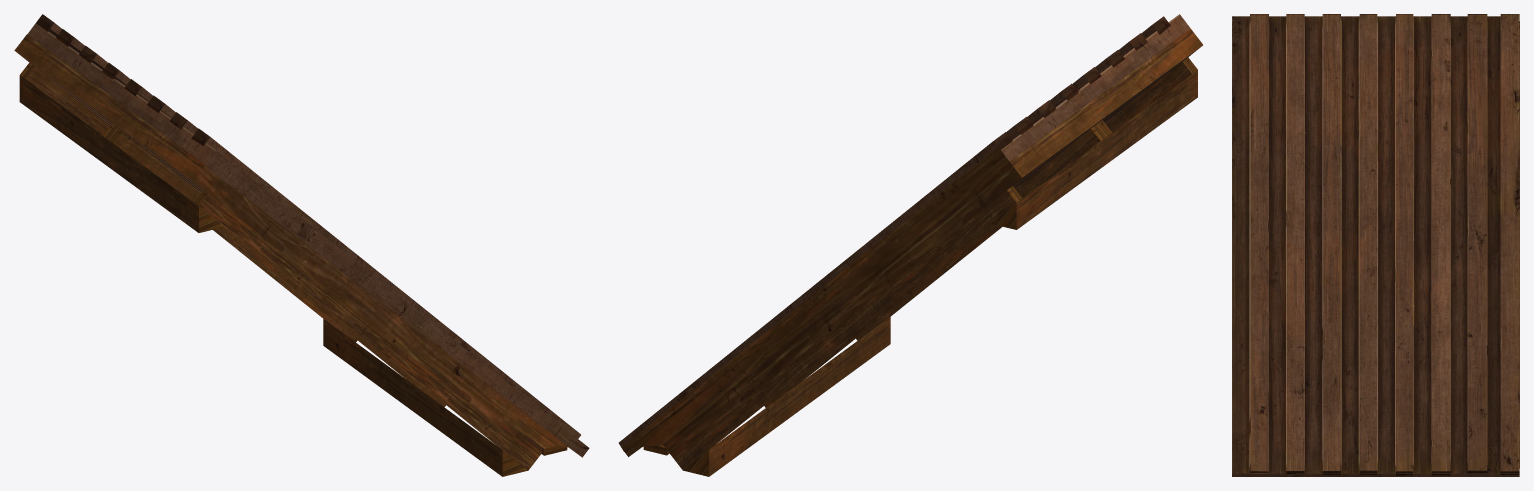
3 views of the same model, side by side, from view 1: azimuth 30°, elevation 25°; view 2: azimuth 150°, elevation 25°; view 3: azimuth 270°, elevation 25° (orthographic). The views are drawn at different scales.
Parts seen in each view (by area): view 1: SM_BB_T2_Roof_Large_LOD0; view 2: SM_BB_T2_Roof_Large_LOD0; view 3: SM_BB_T2_Roof_Large_LOD0.
Part boxes in pixels (x1=…): SM_BB_T2_Roof_Large_LOD0: x1=14, y1=14, x2=589, y2=476; SM_BB_T2_Roof_Large_LOD0: x1=618, y1=14, x2=1202, y2=476; SM_BB_T2_Roof_Large_LOD0: x1=1232, y1=14, x2=1519, y2=476.
Size of the model in its own units: 3.86 by 3.7 by 3.
2 materials, 2 textured.
